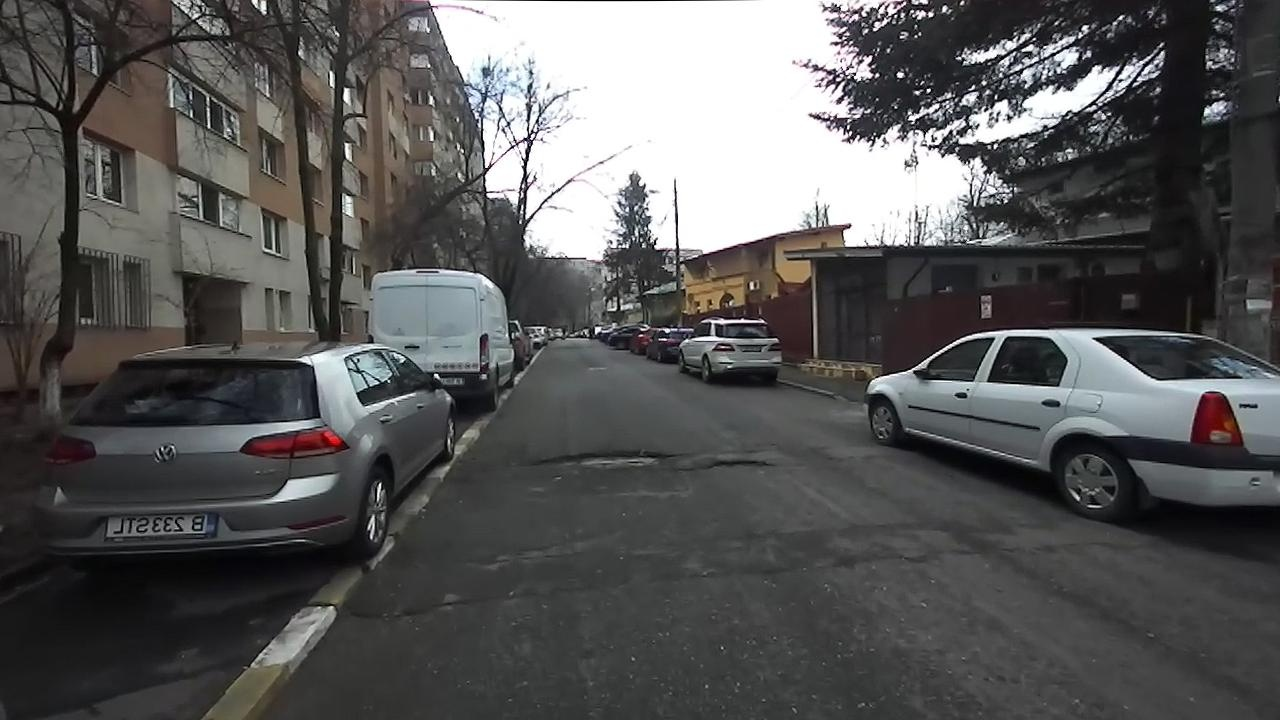pothole: (524, 446, 680, 475), (348, 595, 473, 626), (701, 455, 777, 471)
